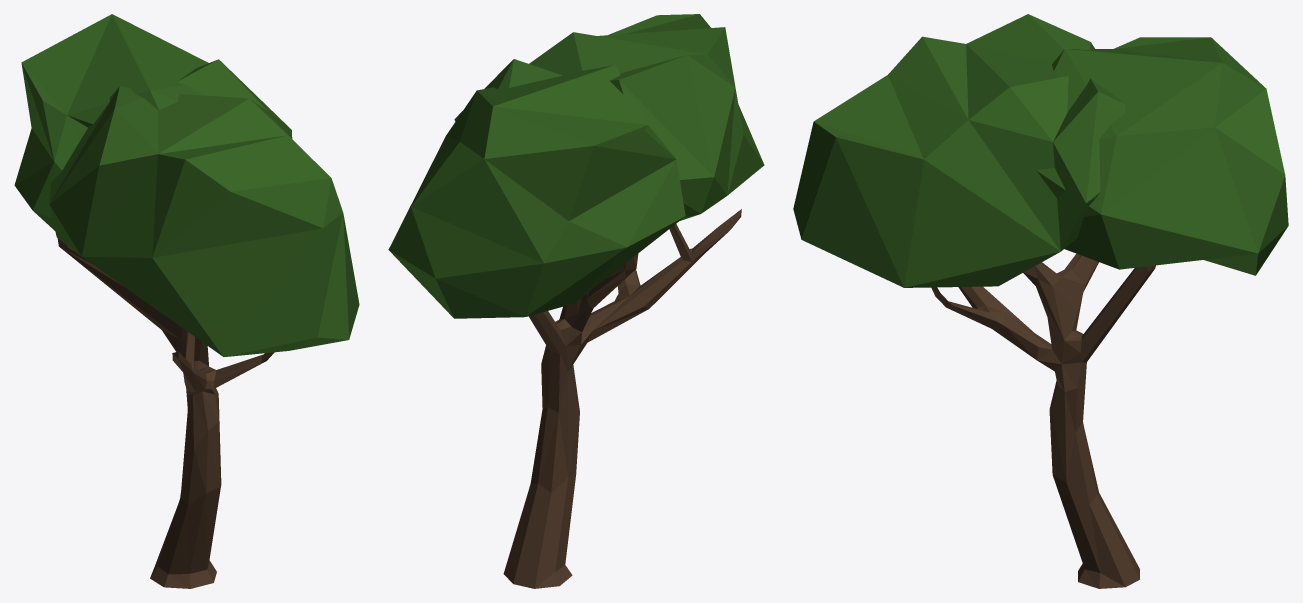
The model's file is tree_b.glb.
The picture shows the model from 3 angles, left to right: view 1: azimuth 30°, elevation 25°; view 2: azimuth 150°, elevation 25°; view 3: azimuth 270°, elevation 25°; orthographic projection. The views are drawn at different scales.
Parts seen in each view (by area): view 1: tree_b; view 2: tree_b; view 3: tree_b.
Part boxes in pixels (x1,y1,x2,y2): tree_b: (14, 14, 359, 588); tree_b: (388, 14, 764, 588); tree_b: (793, 14, 1288, 588).
Size of the model in its own units: 1.28 by 2.52 by 2.22.
